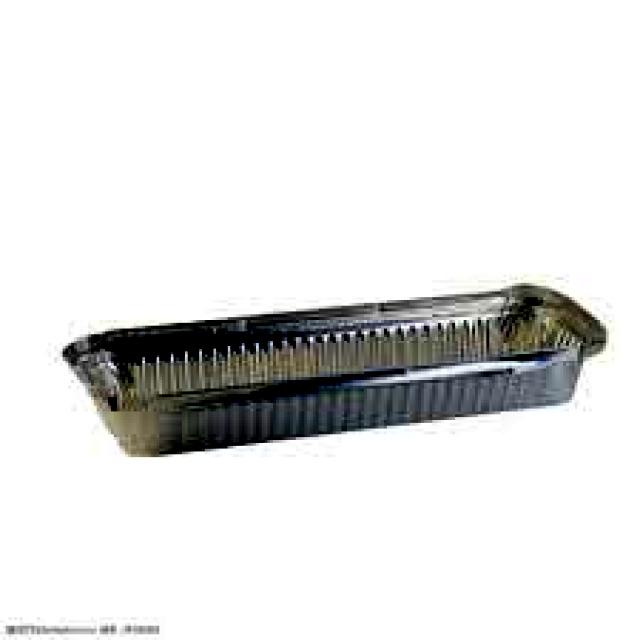Metal: (51, 268, 617, 469)
